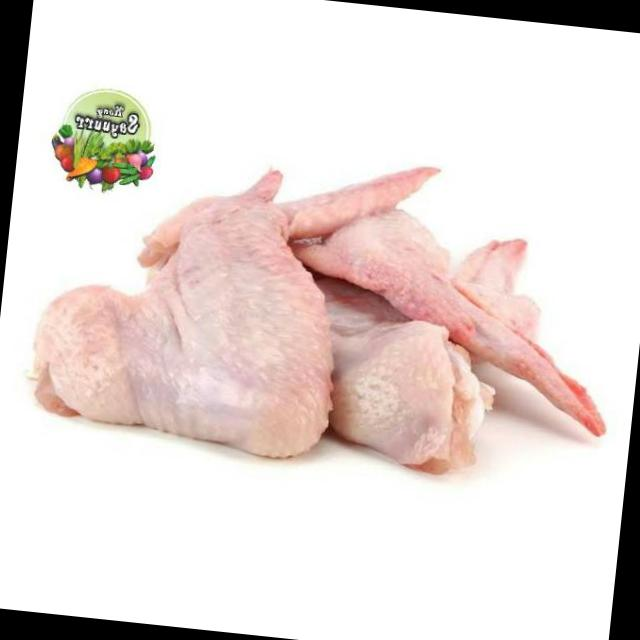chicken: (19, 115, 625, 490), (22, 117, 443, 470)
